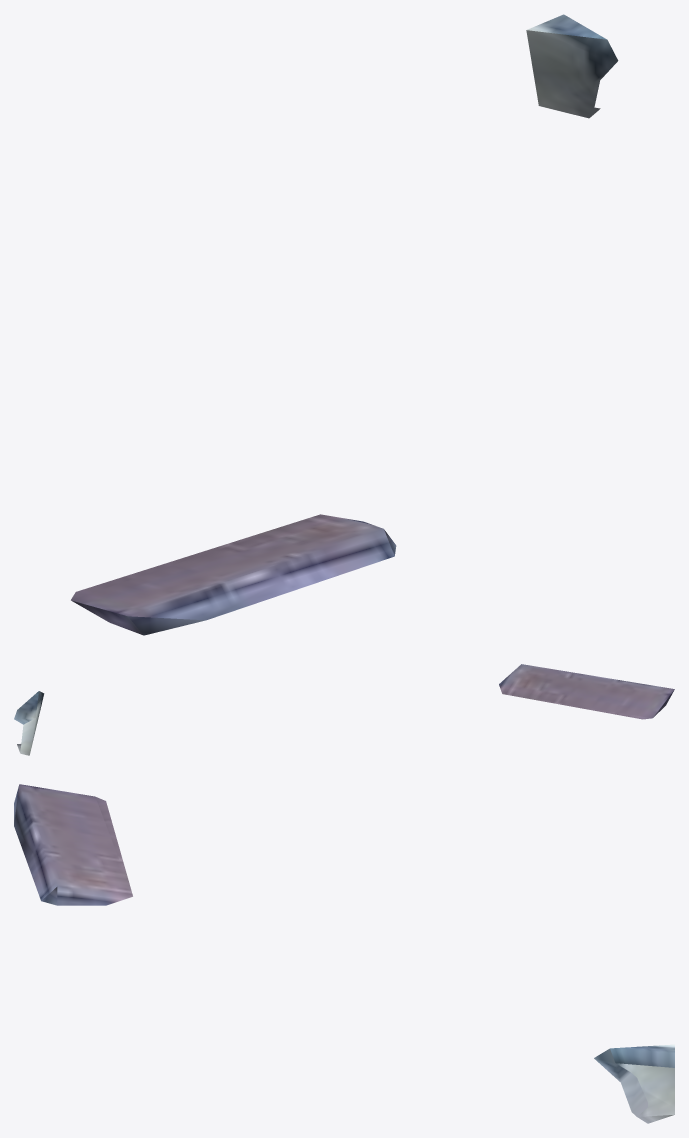
3 views of the same model, one above another, from view 1: azimuth 30°, elevation 25°; view 2: azimuth 150°, elevation 25°; view 3: azimuth 270°, elevation 25° (orthographic). The views are drawn at different scales.
Parts seen in each view (by area): view 1: 30436272704370636635_0; view 2: 30436272704370636635_0; view 3: 30436272704370636635_0.
Part boxes in pixels (x1,y1,x2,y2): 30436272704370636635_0: (71, 14, 618, 635); 30436272704370636635_0: (14, 664, 674, 755); 30436272704370636635_0: (14, 784, 674, 1123).
Size of the model in its own units: 22.08 by 2.17 by 18.83.
1 material, 1 textured.
